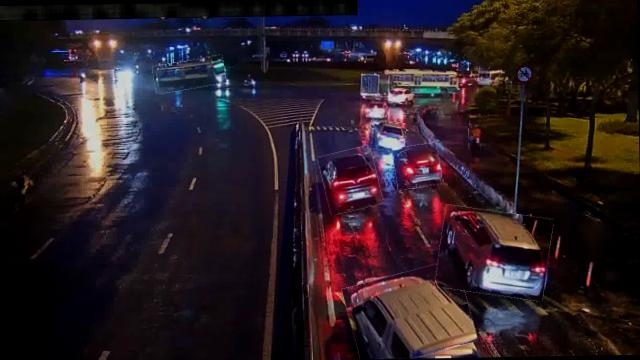Bike: (468, 121, 482, 150)
Bus: (153, 57, 227, 92)
Car: (345, 264, 474, 358), (436, 206, 553, 300), (320, 146, 380, 212), (394, 144, 442, 190), (368, 120, 407, 152), (361, 96, 388, 118)
